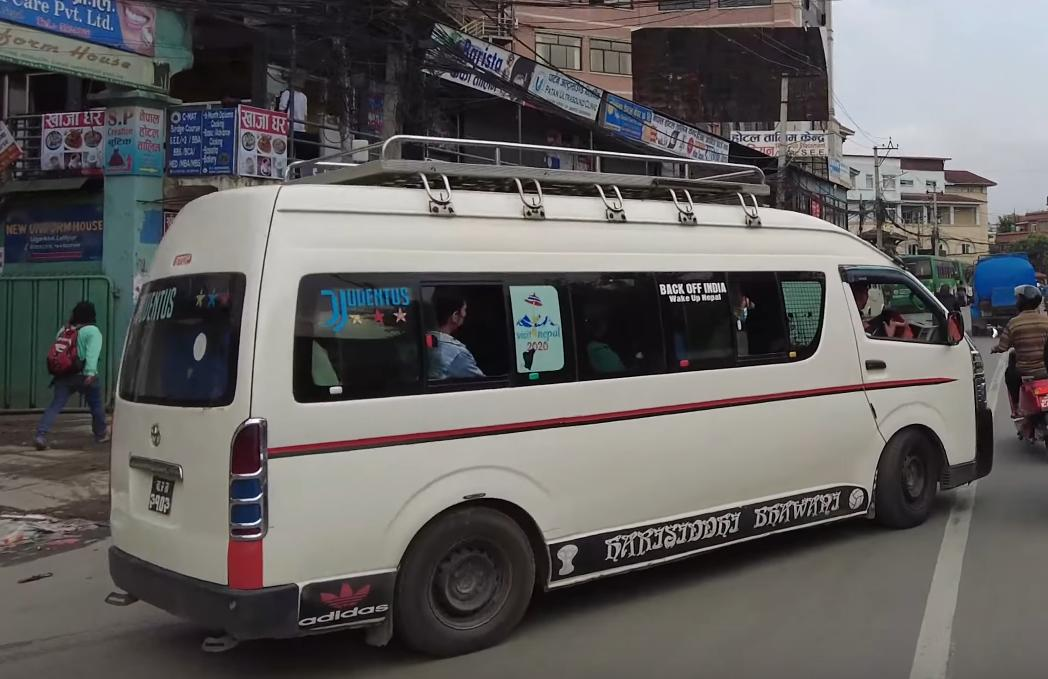bus: (889, 250, 966, 309)
micro_bus: (102, 141, 1004, 665)
